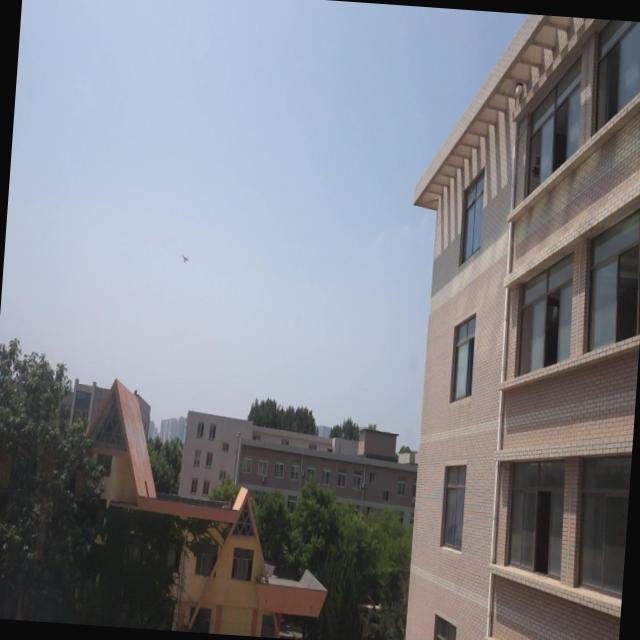drone: (178, 247, 192, 266)
